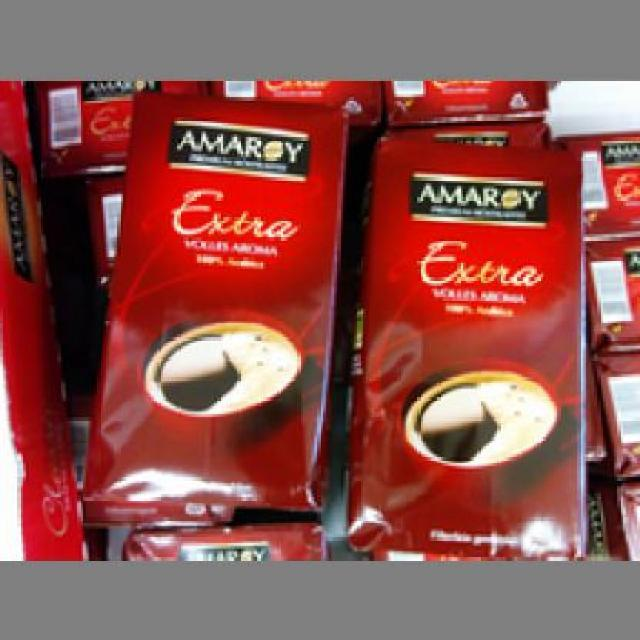Coffee: (73, 82, 350, 512), (340, 132, 589, 554)
